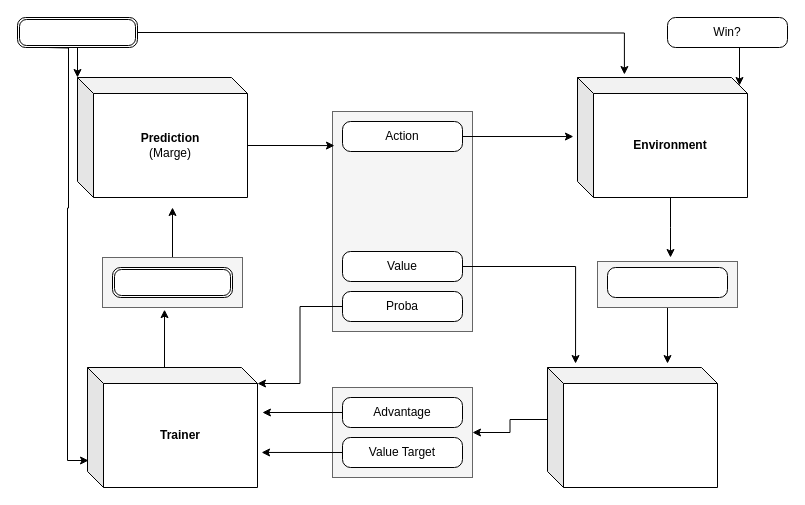
The diagram is 805 pixels wide and 505 high, and some of its shapes have lost their labels. Each missing label, with the centre of its shape:
"GAE" belongs at point 632,427.
"Model Params" belongs at point 172,282.
"Observation" belongs at point 77,32.
"Reward" belongs at point 667,282.
